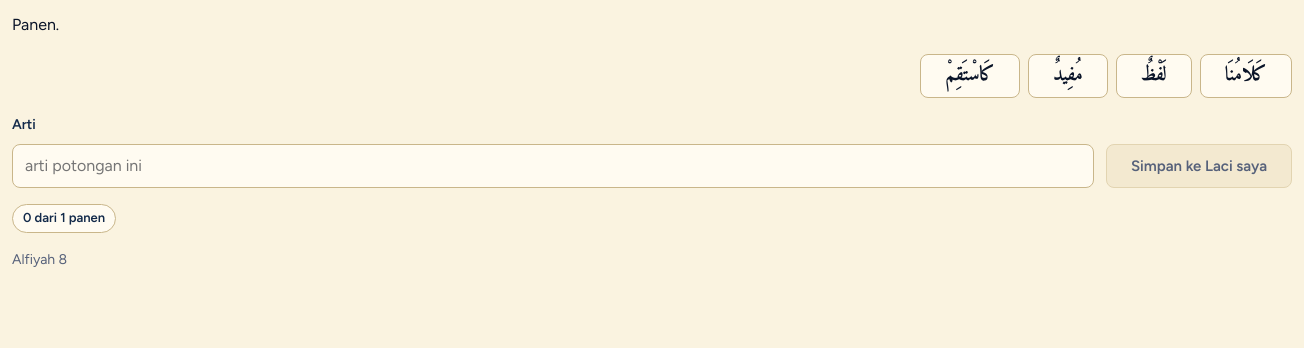
panen sesudah Jilid 1 (spec 077) › di luar mode salim, potongan berzihaf hasan pun bisa dipanen dengan nama zihafnya
Click the button "كَلَامُنَا" at coordinates (1246, 76), box [1200,54,1292,98]
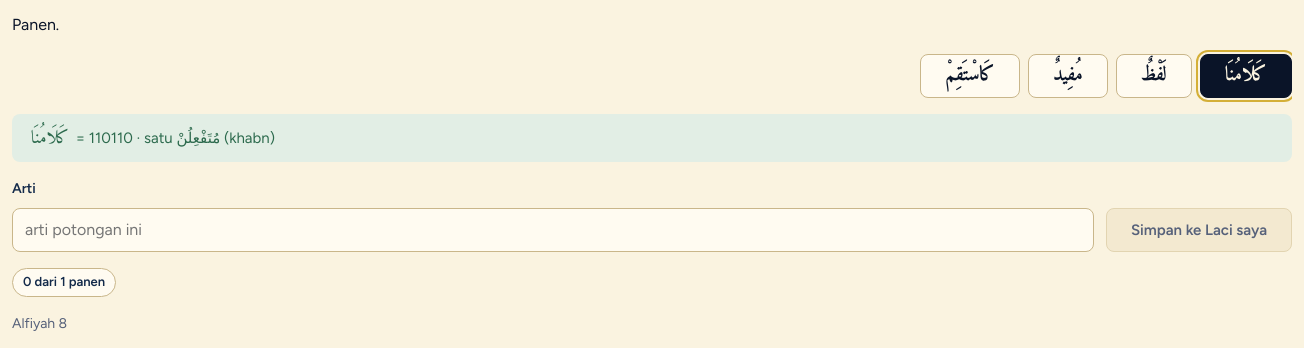
expect the text "110110 · satu مُتَفْعِلُنْ (khabn)" is shown: met, box [89,129,275,147]
